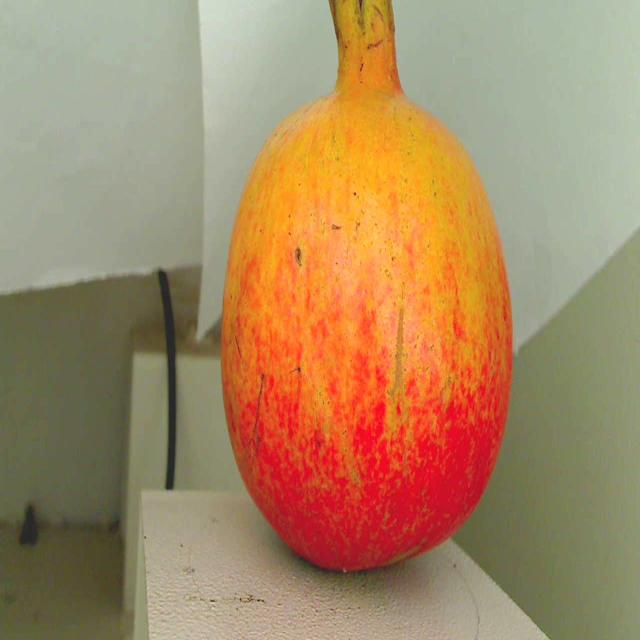pomegranate: (212, 0, 523, 585)
